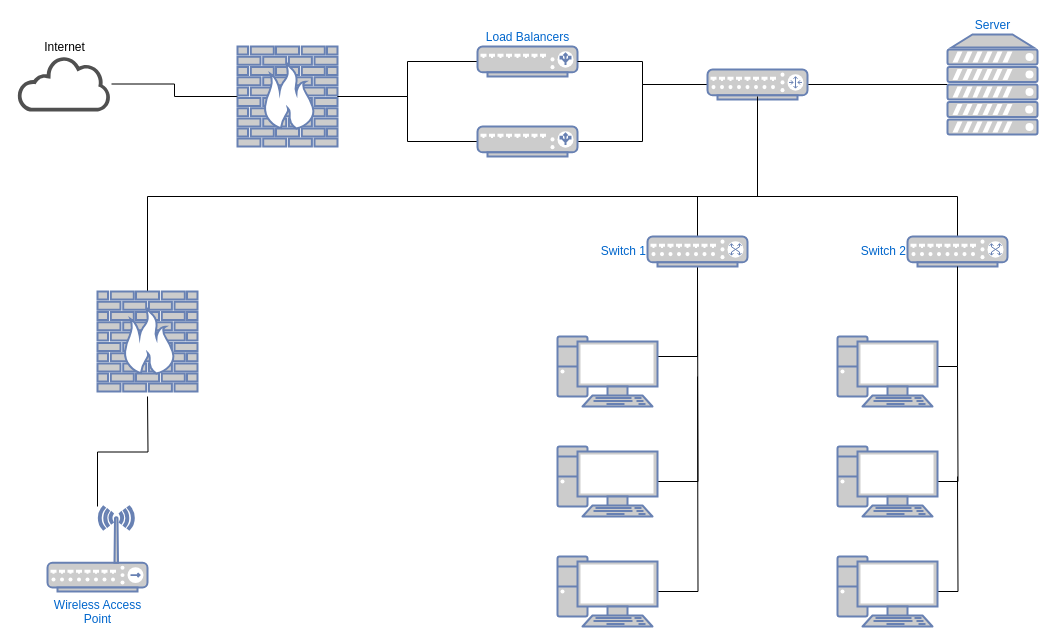
This 1055x644 diagram has some shape labels left out. The box of each missing label's shape, as (x1, y1, x2, y2) in pixels:
Firewall: (236, 45, 338, 147)
Firewall for Wirelwess: (96, 290, 198, 392)
Router: (706, 68, 808, 100)
